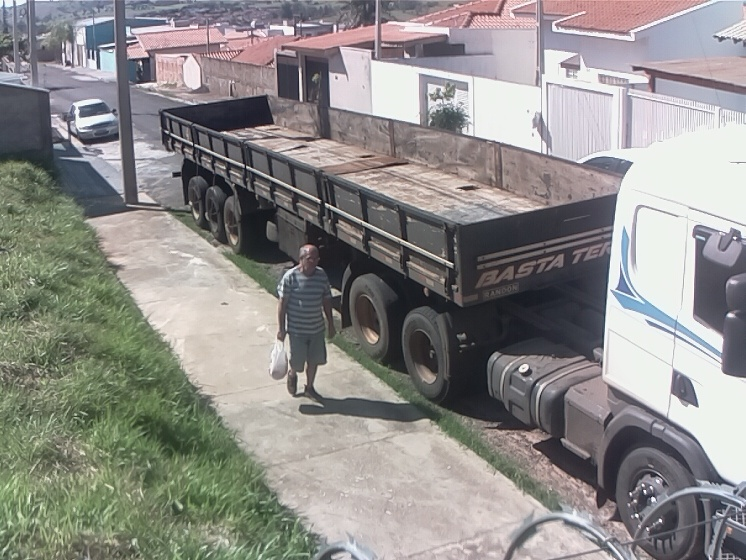person: (275, 241, 338, 407)
